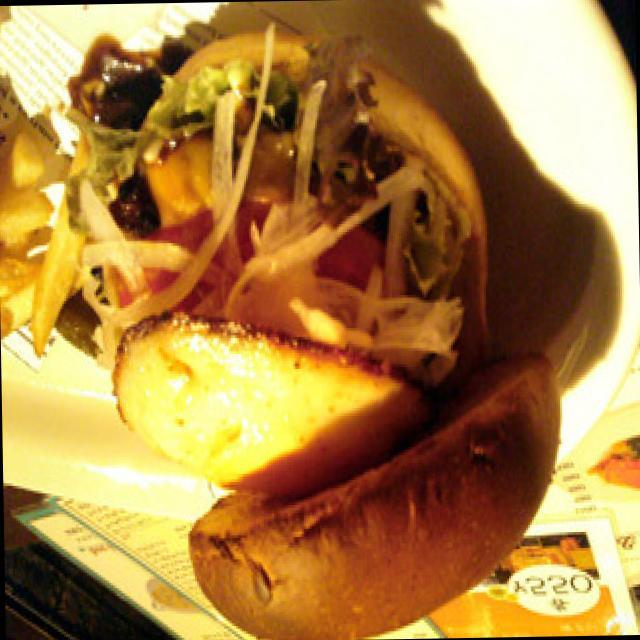Hamburger: (91, 45, 554, 640)
